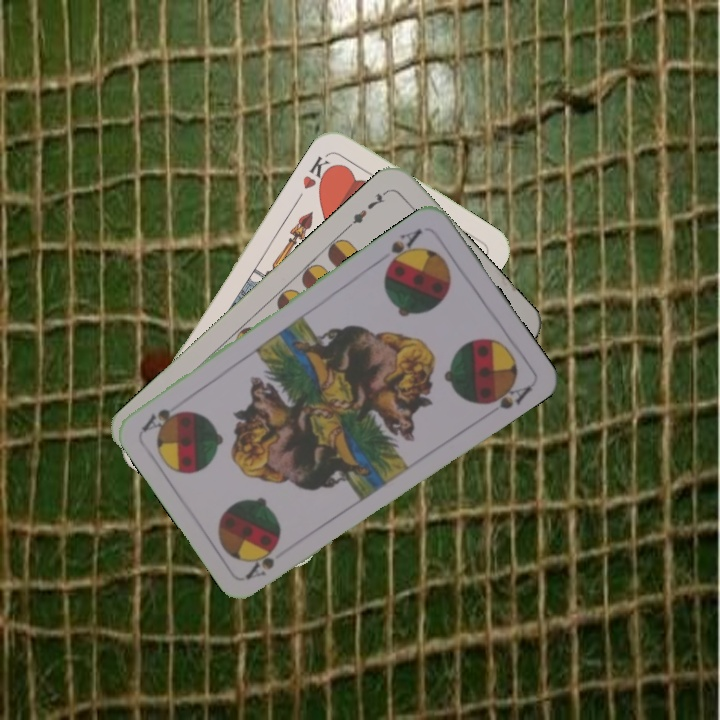E7: (343, 186, 391, 231)
HK: (298, 149, 338, 193)
SA: (382, 224, 425, 272), (242, 543, 279, 582)
